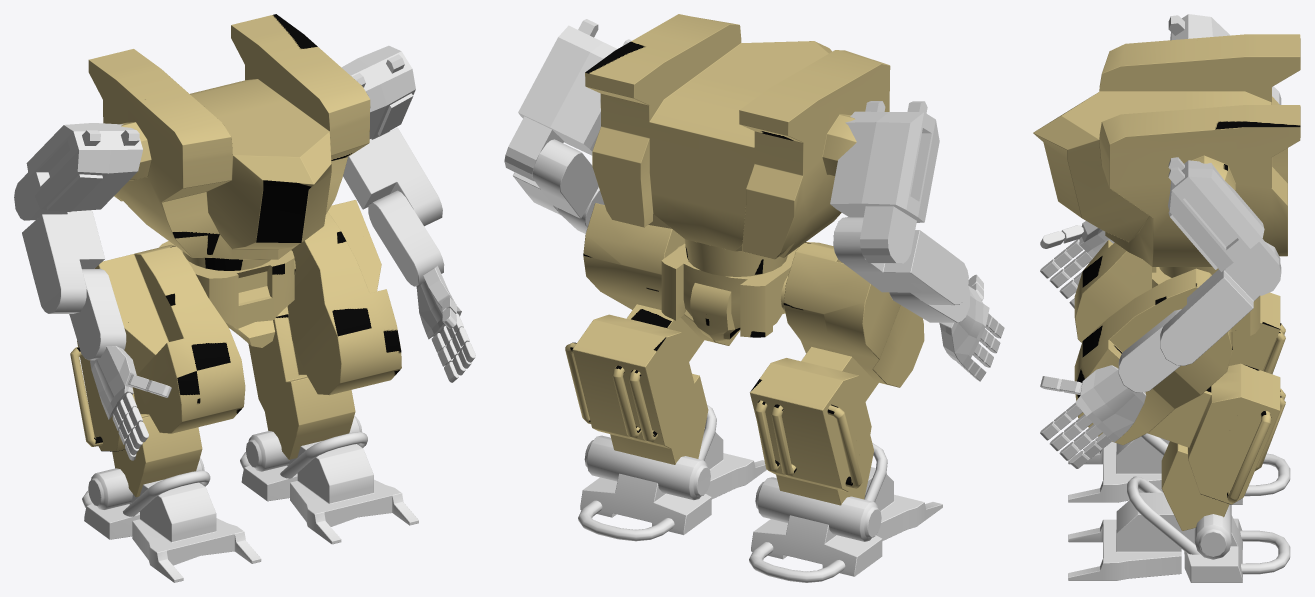
File: mechaNew.fbx
3 views of the same model, side by side, from view 1: azimuth 30°, elevation 25°; view 2: azimuth 150°, elevation 25°; view 3: azimuth 270°, elevation 25° (orthographic). The views are drawn at different scales.
Visible parts, largest first — view 1: AnotherTest.001, R_Thigh.001, L_Thigh.001, Arm1.001, Arm2.001, R_Foot.001, L_Foot.001, Hand.001, L_Calf.001, Arm3.001, Pelvis.001, R_Calf.001; view 2: AnotherTest.001, Arm1.001, L_Calf.001, R_Calf.001, R_Foot.001, L_Foot.001, R_Thigh.001, Arm2.001, Pelvis.001, L_Thigh.001, Hand.001, Arm3.001; view 3: AnotherTest.001, L_Calf.001, L_Foot.001, Arm1.001, L_Thigh.001, Hand.001, Arm2.001, R_Foot.001, R_Thigh.001, R_Calf.001, Arm3.001, Pelvis.001.
Boxes of the visible parts, x1=… form: AnotherTest.001: x1=88, y1=14, x2=370, y2=259; R_Thigh.001: x1=94, y1=244, x2=245, y2=433; L_Thigh.001: x1=287, y1=200, x2=401, y2=395; Arm1.001: x1=14, y1=45, x2=415, y2=220; Arm2.001: x1=22, y1=128, x2=442, y2=313; R_Foot.001: x1=82, y1=457, x2=261, y2=582; L_Foot.001: x1=240, y1=416, x2=418, y2=544; Hand.001: x1=90, y1=265, x2=475, y2=460; L_Calf.001: x1=248, y1=306, x2=355, y2=459; Arm3.001: x1=69, y1=190, x2=444, y2=360; Pelvis.001: x1=159, y1=241, x2=295, y2=347; R_Calf.001: x1=70, y1=340, x2=202, y2=497; AnotherTest.001: x1=585, y1=14, x2=890, y2=259; Arm1.001: x1=504, y1=19, x2=939, y2=263; L_Calf.001: x1=565, y1=304, x2=708, y2=464; R_Calf.001: x1=750, y1=347, x2=878, y2=505; R_Foot.001: x1=749, y1=443, x2=942, y2=582; L_Foot.001: x1=578, y1=405, x2=766, y2=541; R_Thigh.001: x1=783, y1=242, x2=924, y2=387; Arm2.001: x1=513, y1=139, x2=968, y2=305; Pelvis.001: x1=661, y1=239, x2=798, y2=341; L_Thigh.001: x1=583, y1=203, x2=740, y2=345; Hand.001: x1=939, y1=274, x2=1004, y2=381; Arm3.001: x1=558, y1=187, x2=970, y2=322; AnotherTest.001: x1=1033, y1=34, x2=1300, y2=266; L_Calf.001: x1=1147, y1=363, x2=1285, y2=530; L_Foot.001: x1=1068, y1=476, x2=1290, y2=582; Arm1.001: x1=1168, y1=14, x2=1281, y2=295; L_Thigh.001: x1=1074, y1=268, x2=1232, y2=445; Hand.001: x1=1040, y1=221, x2=1146, y2=468; Arm2.001: x1=1160, y1=242, x2=1280, y2=365; R_Foot.001: x1=1068, y1=433, x2=1290, y2=504; R_Thigh.001: x1=1074, y1=240, x2=1151, y2=342; R_Calf.001: x1=1228, y1=292, x2=1285, y2=374; Arm3.001: x1=1118, y1=309, x2=1181, y2=392; Pelvis.001: x1=1152, y1=267, x2=1260, y2=335.
Bounding box in the file's own units: 11.07 × 6.48 × 11.74.
1 material, 1 textured.
